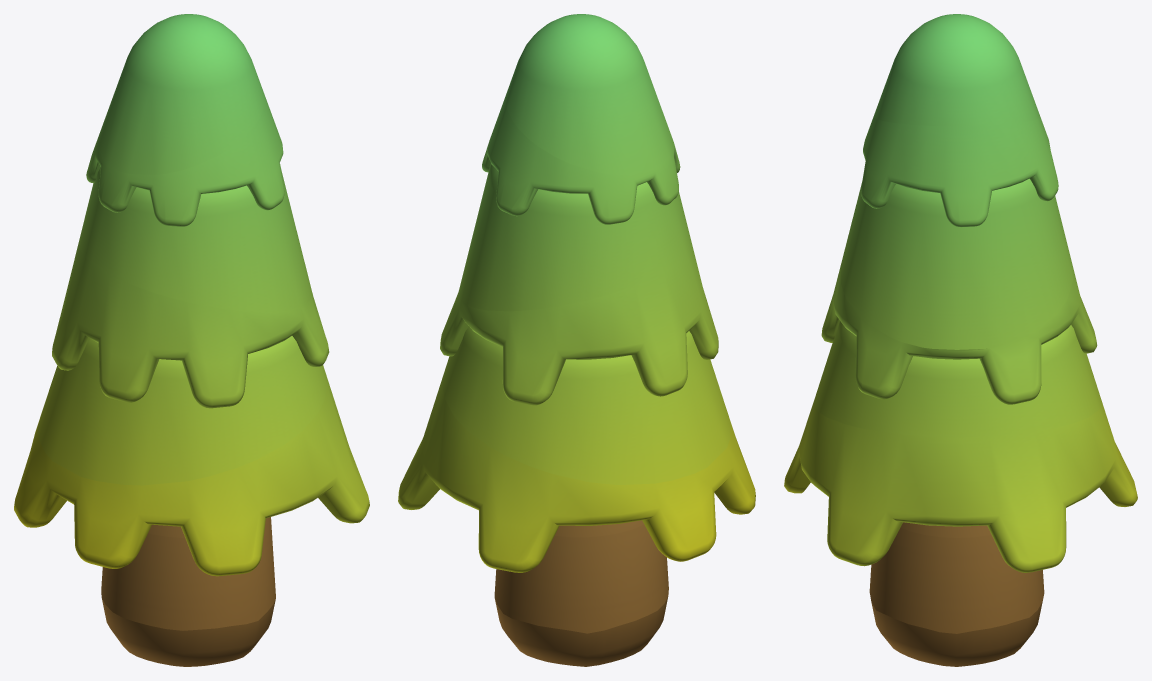
File: New_Tree1.fbx
The picture shows the model from 3 angles, left to right: view 1: azimuth 30°, elevation 25°; view 2: azimuth 150°, elevation 25°; view 3: azimuth 270°, elevation 25°; orthographic projection.
Visible parts, largest first — view 1: Cylinder.049, Cylinder.048, Cylinder.050, Cylinder.047, Cylinder.051, Cylinder.045; view 2: Cylinder.049, Cylinder.048, Cylinder.050, Cylinder.047, Cylinder.051, Cylinder.045; view 3: Cylinder.048, Cylinder.050, Cylinder.049, Cylinder.047, Cylinder.051, Cylinder.045.
Boxes of the visible parts, x1,y1,x2,y2 form: Cylinder.049: [37, 245, 329, 485]; Cylinder.048: [78, 93, 312, 312]; Cylinder.050: [14, 377, 369, 576]; Cylinder.047: [97, 14, 264, 174]; Cylinder.051: [101, 517, 275, 630]; Cylinder.045: [102, 598, 275, 666]; Cylinder.049: [440, 243, 730, 484]; Cylinder.048: [459, 93, 691, 311]; Cylinder.050: [398, 375, 755, 572]; Cylinder.047: [505, 14, 671, 174]; Cylinder.051: [494, 524, 668, 633]; Cylinder.045: [494, 596, 668, 666]; Cylinder.048: [841, 116, 1073, 349]; Cylinder.050: [784, 399, 1137, 572]; Cylinder.049: [813, 264, 1101, 437]; Cylinder.047: [874, 14, 1039, 126]; Cylinder.051: [869, 528, 1044, 633]; Cylinder.045: [871, 600, 1042, 666].
Size of the model in its own units: 0.9083 by 1.84 by 0.9436.
